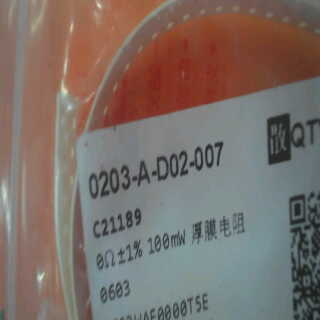0R: (93, 236, 146, 310)
